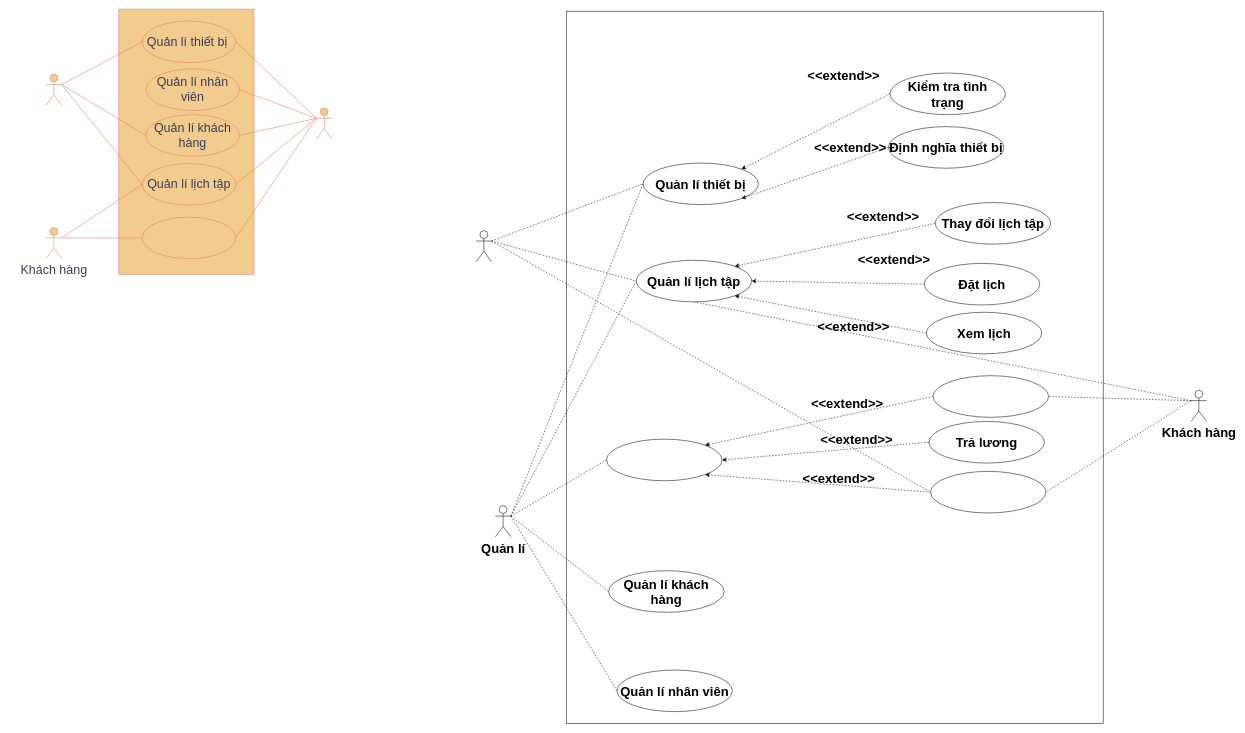
This 1245x733 diagram has some shape labels left out. The box of each missing label's shape, as (x1, y1, x2, y2) in pixels:
Admin: (316, 107, 332, 139)
Huấn luyện viên: (46, 74, 62, 105)
Nhân viên: (476, 230, 492, 262)
Nộp phí: (933, 375, 1049, 417)
Quản lí doanh thu: (142, 217, 236, 259)
Quản lí tiền: (606, 439, 722, 481)
Xem lịch sử: (930, 471, 1046, 513)
